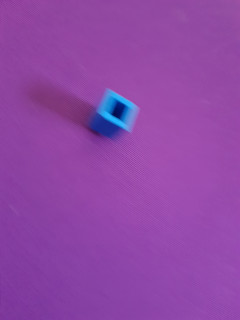1x1 blue: (84, 86, 141, 143)
